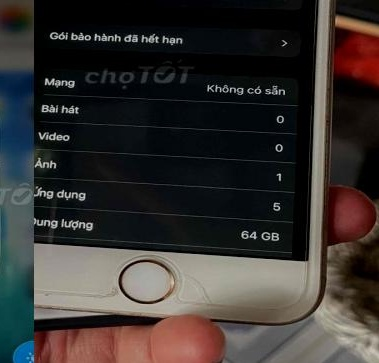screen_defect: (176, 258, 236, 317)
